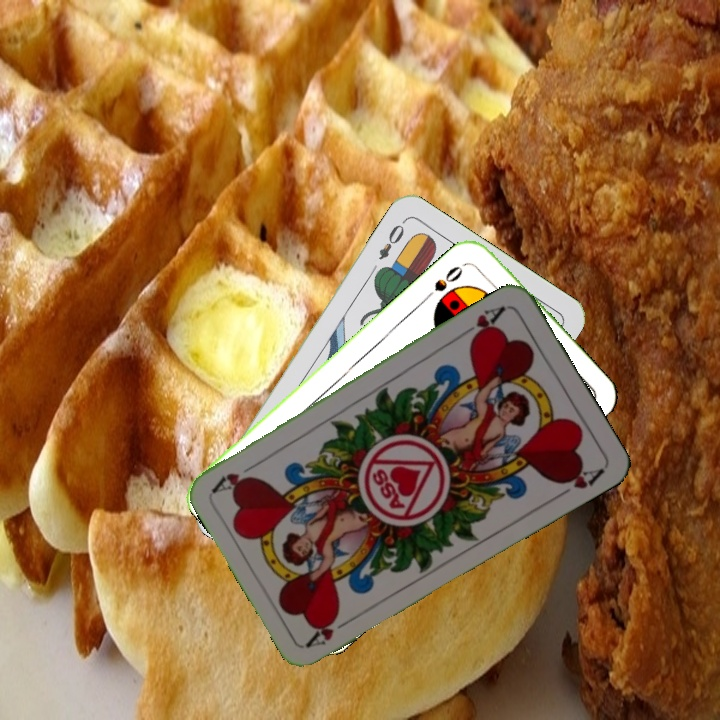EO: (374, 216, 409, 263)
HA: (457, 301, 508, 346), (303, 609, 357, 650)
SO: (430, 261, 466, 295)
